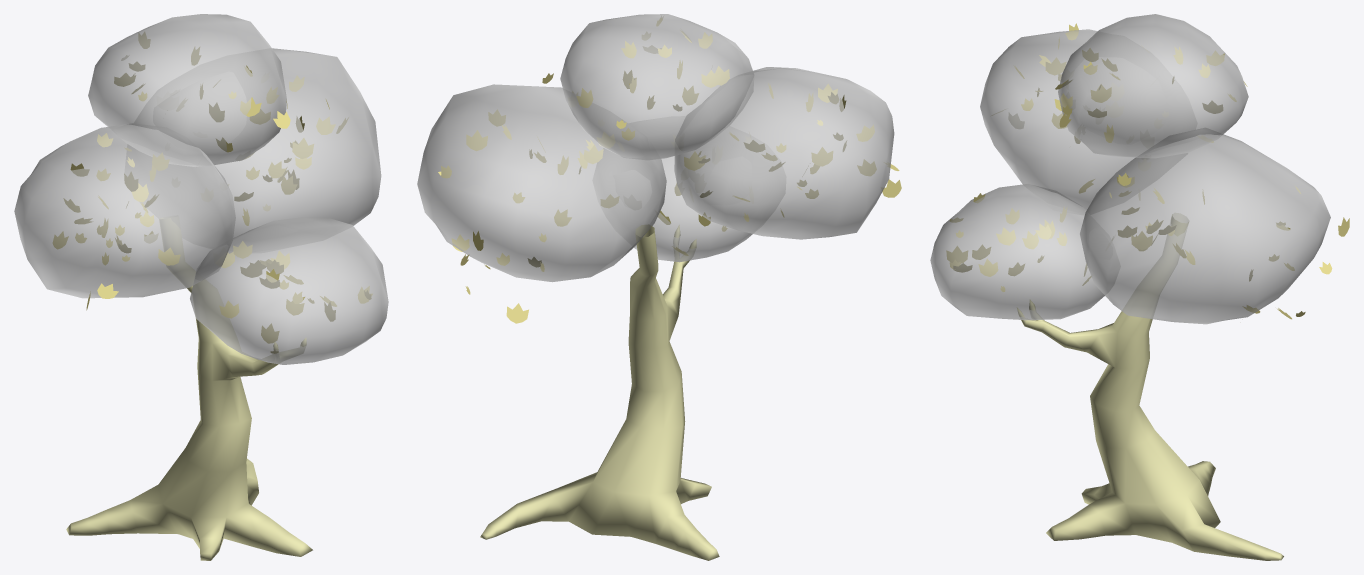
The model's file is rock_kicking_heaven_tree.glb.
3 renders of one model, left to right at view 1: azimuth 30°, elevation 25°; view 2: azimuth 150°, elevation 25°; view 3: azimuth 270°, elevation 25°, orthographic. The views are drawn at different scales.
Visible parts, largest first — view 1: HeavenTreeReal; view 2: HeavenTreeReal; view 3: HeavenTreeReal.
Part boxes in pixels (x1,y1,x2,y2): HeavenTreeReal: (14, 14, 388, 560); HeavenTreeReal: (417, 14, 901, 560); HeavenTreeReal: (930, 14, 1349, 560).
Size of the model in its own units: 21.04 by 26.22 by 20.69.
